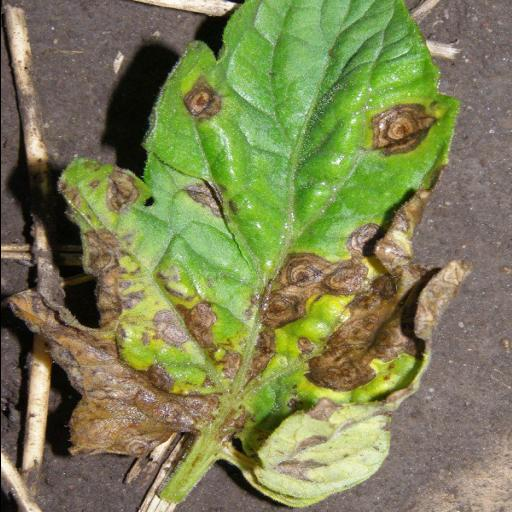disease_tomato: (13, 0, 471, 508)
